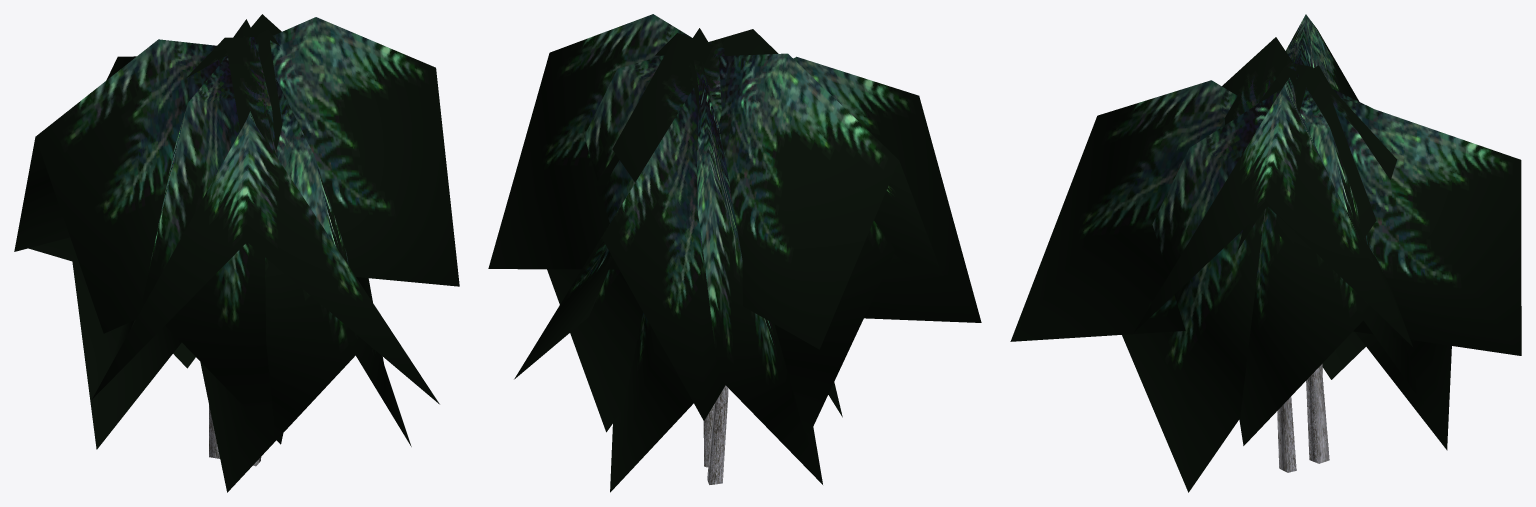
The model's file is fern_tallstalk_blue_l1.fbx.
The picture shows the model from 3 angles, left to right: view 1: azimuth 30°, elevation 25°; view 2: azimuth 150°, elevation 25°; view 3: azimuth 270°, elevation 25°; orthographic projection. The views are drawn at different scales.
Parts seen in each view (by area): view 1: mesh_node; view 2: mesh_node; view 3: mesh_node.
Part boxes in pixels (<box>): mesh_node: <box>14,14,459,492</box>; mesh_node: <box>488,14,981,492</box>; mesh_node: <box>1010,14,1521,492</box>.
Bounding box in the file's own units: 11.26 × 12.15 × 13.52.
